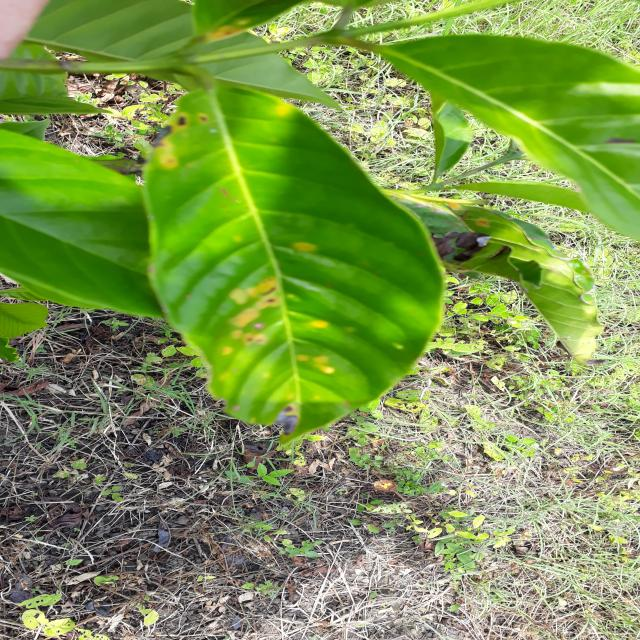Enfermedad-Roya: (142, 65, 446, 433)
